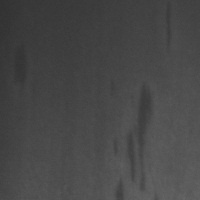inclusion: (107, 81, 156, 199), (9, 39, 37, 92), (158, 0, 177, 57), (100, 71, 120, 104)
